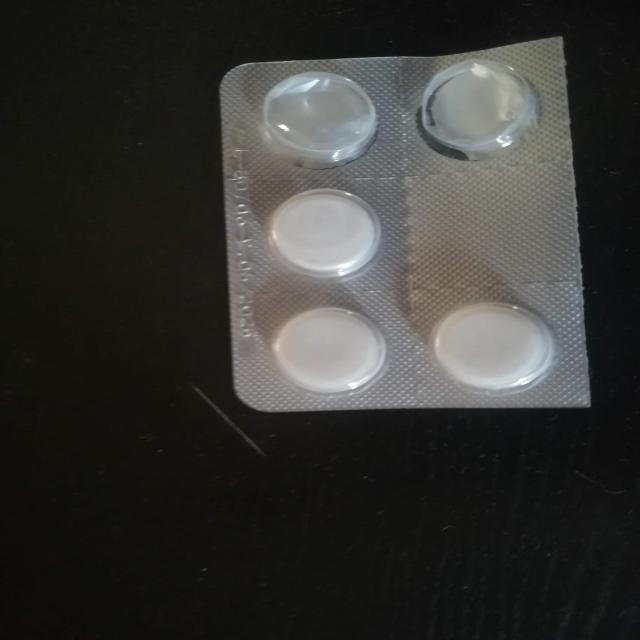Empty: (404, 61, 553, 160), (245, 69, 385, 168)
Pill: (415, 297, 561, 395), (247, 187, 393, 281), (266, 300, 396, 395)
